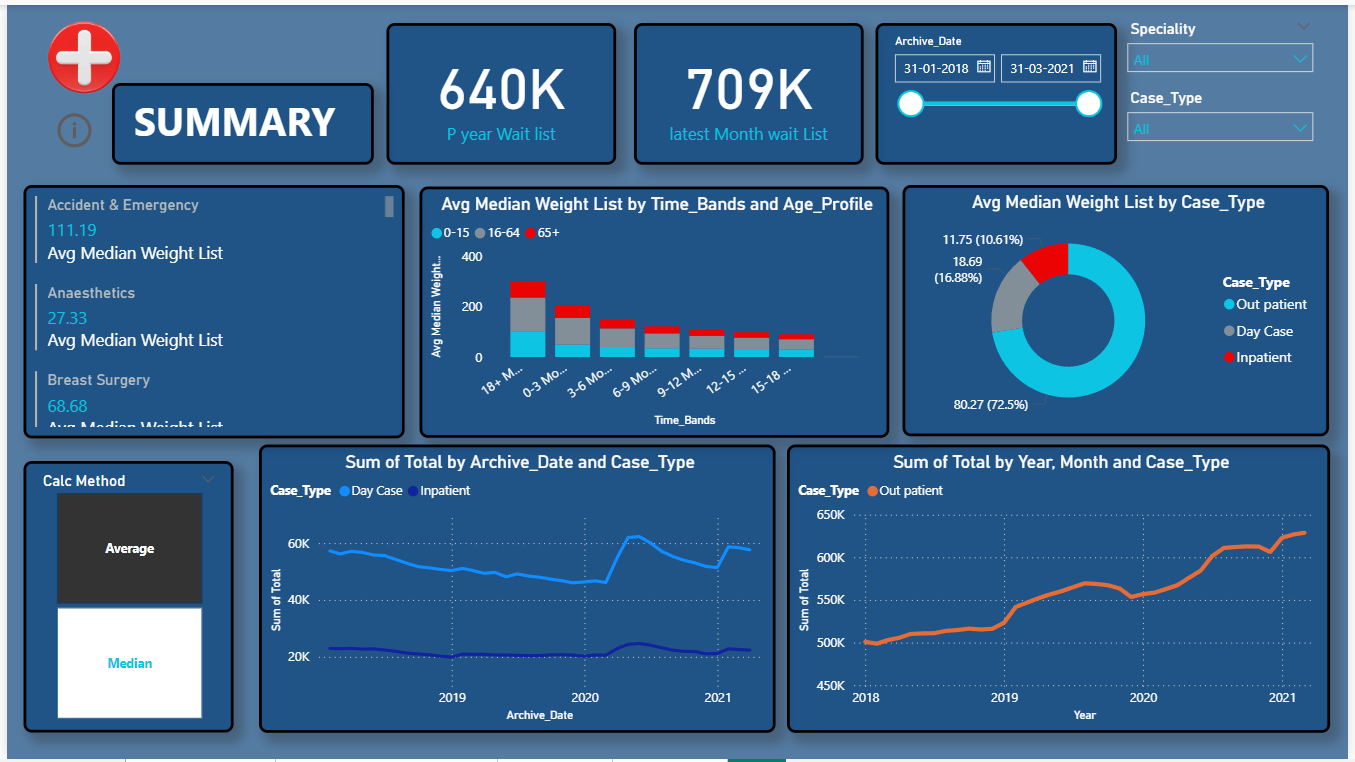

The dashboard page shown, as its layout file describes it:
{"tool":"powerbi","page":{"name":"SUMMARY","canvas":[1280,720],"ordinal":0},"visuals":[{"type":"slicer","fields":{"Values":["All Data.Archive_Date"]},"box":[828.7,17.5,230.6,135.2],"z":0},{"type":"card","fields":{"Values":["All Data.latest Month wait List"]},"box":[598.1,17.5,219.5,135.2],"z":1000},{"type":"card","fields":{"Values":["All Data.P year Wait list"]},"box":[362.7,17.5,219.5,135.2],"z":2000},{"type":"slicer","fields":{"Values":["All Data.Speciality"]},"box":[1059.3,8,197.2,82.7],"z":3000},{"type":"slicer","fields":{"Values":["All Data.Case_Type"]},"box":[1059.3,74.8,197.2,77.9],"z":4000},{"type":"textbox","box":[100.2,74.8,249.7,77.9],"z":5000},{"type":"donutChart","fields":{"Category":["All Data.Case_Type"],"Y":["All Data.Avg Median Weight List"]},"box":[855.7,171.8,407.2,240.2],"z":6000},{"type":"slicer","fields":{"Values":["Calculation Method.Calc Method"]},"box":[15.9,435.8,200.4,259.3],"z":7000},{"type":"columnChart","fields":{"Category":["All Data.Time_Bands"],"Y":["All Data.Avg Median Weight List"],"Series":["All Data.Age_Profile"]},"box":[394.5,173.4,448.6,240.2],"z":8000},{"type":"multiRowCard","fields":{"Values":["All Data.Speciality","All Data.Avg Median Weight List"]},"box":[15.9,171.8,364.2,241.8],"z":9000},{"type":"lineChart","fields":{"Category":["All Data.Archive_Date.Variation.Date Hierarchy.Year"],"Y":["Sum(All Data.Total)"],"Series":["All Data.Case_Type"]},"box":[240.2,419.9,493.1,275.2],"z":10000},{"type":"lineChart","fields":{"Y":["Sum(All Data.Total)"],"Series":["All Data.Case_Type"],"Category":["All Data.Archive_Date.Variation.Date Hierarchy.Year","All Data.Archive_Date.Variation.Date Hierarchy.Month"]},"box":[744.4,419.9,518.5,275.2],"z":11000},{"type":"card","fields":{"Values":["All Data.NoDataLeft"]},"box":[279.9,454.9,412,192.5],"z":12000},{"type":"card","fields":{"Values":["All Data.NoDataRight"]},"box":[790.5,496.3,424.7,176.6],"z":13000},{"type":"image","box":[31.8,8,84.3,82.7],"z":14000},{"type":"actionButton","box":[42.9,90.7,42.9,58.9],"z":15000}]}

Visuals, with their boxes in screenshot pixels (x1, y1, x2, y2), scaled from the page's 1280x720 canvas onto the 1355x762 screenshot:
slicer - All Data.Archive_Date: left=877, top=19, right=1121, bottom=162
card - All Data.latest Month wait List: left=633, top=19, right=866, bottom=162
card - All Data.P year Wait list: left=384, top=19, right=616, bottom=162
slicer - All Data.Speciality: left=1121, top=8, right=1330, bottom=96
slicer - All Data.Case_Type: left=1121, top=79, right=1330, bottom=162
textbox: left=106, top=79, right=370, bottom=162
donutChart - All Data.Case_Type x All Data.Avg Median Weight List: left=906, top=182, right=1337, bottom=436
slicer - Calculation Method.Calc Method: left=17, top=461, right=229, bottom=736
columnChart - All Data.Time_Bands x All Data.Avg Median Weight List: left=418, top=184, right=893, bottom=438
multiRowCard - All Data.Speciality x All Data.Avg Median Weight List: left=17, top=182, right=402, bottom=438
lineChart - All Data.Archive_Date.Variation.Date Hierarchy.Year x Sum(All Data.Total): left=254, top=444, right=776, bottom=736
lineChart - Sum(All Data.Total) x All Data.Case_Type: left=788, top=444, right=1337, bottom=736
card - All Data.NoDataLeft: left=296, top=481, right=732, bottom=685
card - All Data.NoDataRight: left=837, top=525, right=1286, bottom=712
image: left=34, top=8, right=123, bottom=96
actionButton: left=45, top=96, right=91, bottom=158
